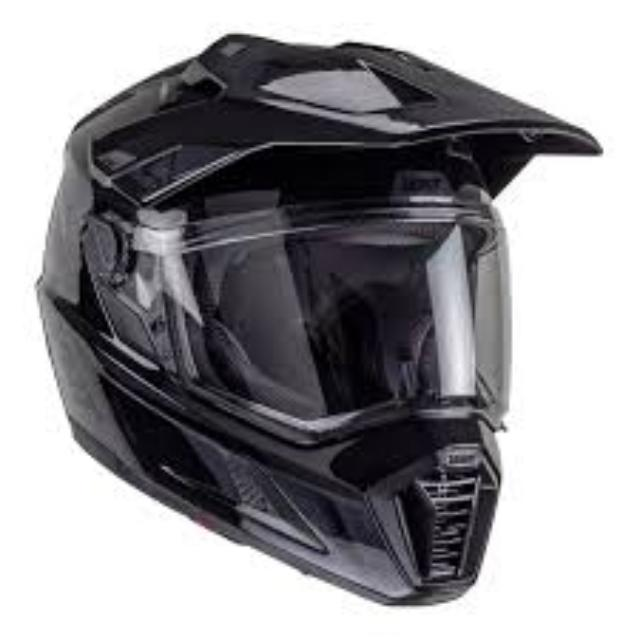motorcycle-helmets: (35, 28, 609, 606)
